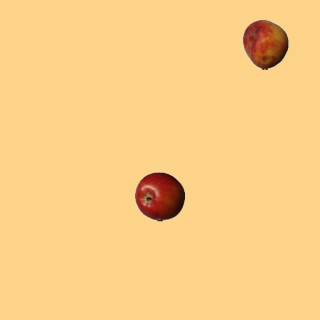Apple Braeburn: (134, 171, 184, 221)
Peach: (240, 19, 290, 69)
